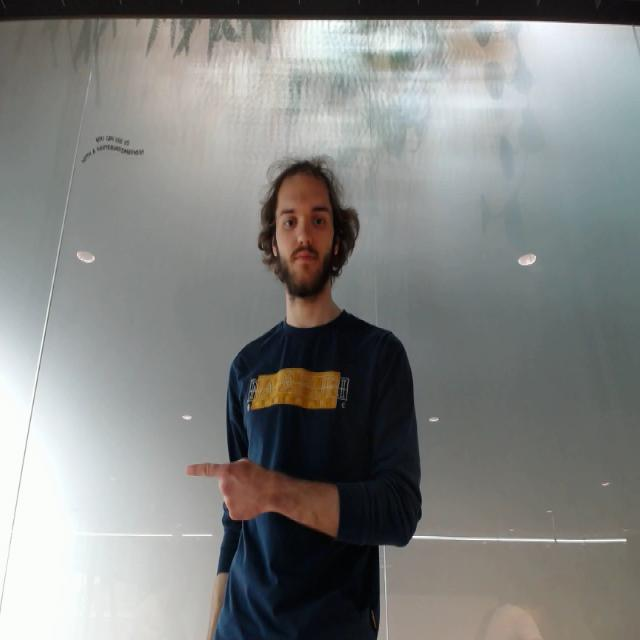left: (182, 456, 272, 524)
